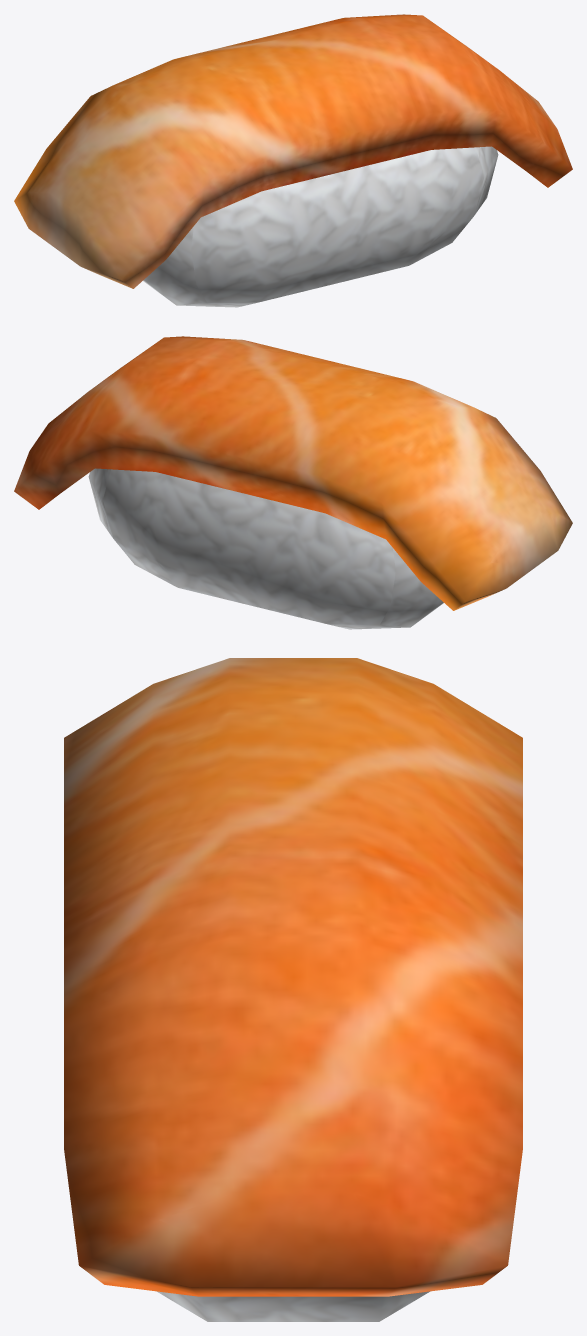
The model's file is salmon.fbx.
3 views of the same model, one above another, from view 1: azimuth 30°, elevation 25°; view 2: azimuth 150°, elevation 25°; view 3: azimuth 270°, elevation 25° (orthographic). The views are drawn at different scales.
Visible parts, largest first — view 1: salmon; view 2: salmon; view 3: salmon.
Boxes of the visible parts, bbox=[...] form: salmon: bbox=[14, 14, 572, 307]; salmon: bbox=[14, 336, 572, 629]; salmon: bbox=[64, 658, 522, 1321].
Size of the model in its own units: 7.62 by 3.36 by 3.17.
